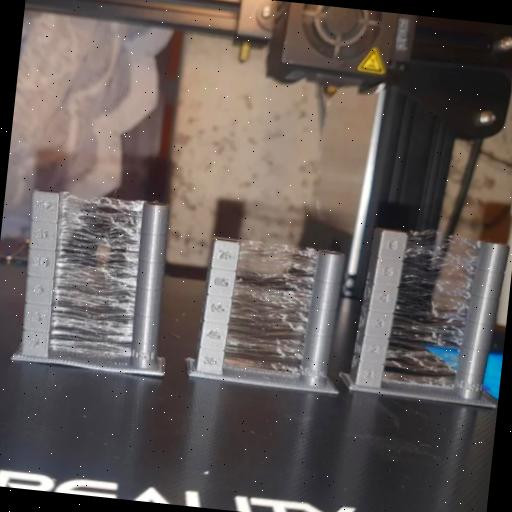stringing: (40, 184, 156, 358), (380, 226, 489, 396), (215, 234, 331, 378)
